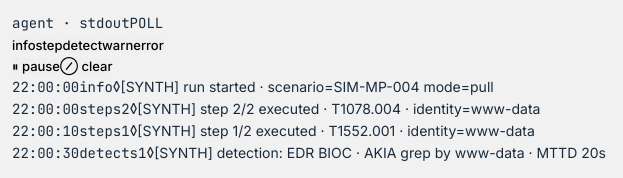
Test: <EventStream /> › level filter toggle hides events of that level
The width and height of the screenshot is (623, 178).
Expected: the text "◊[SYNTH] run started · scenario=SIM-MP-004 mode=pull" is shown, [113, 78, 494, 95]
Step 1. Click the button "info" → click(24, 45), box [12, 37, 36, 53]
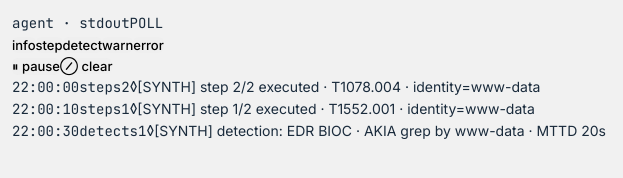
Expected: the text "run started" is gone
